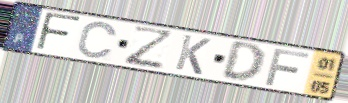C: (75, 20, 119, 60)
D: (219, 41, 266, 85)
F: (34, 10, 84, 53), (263, 47, 312, 88)
K: (172, 33, 213, 77)
Z: (123, 24, 177, 70)
